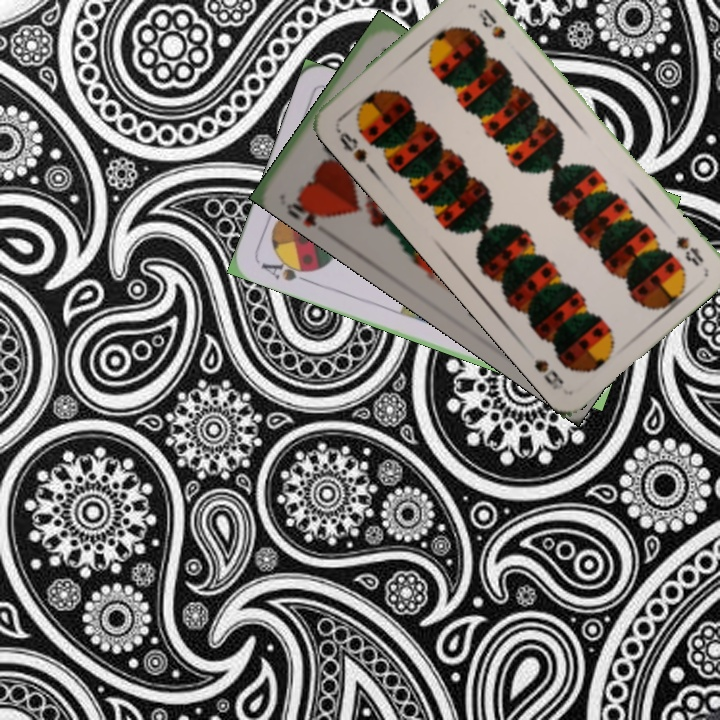HO: (282, 192, 334, 230)
S8: (332, 124, 370, 166), (671, 231, 707, 269)
SA: (257, 254, 316, 286)
